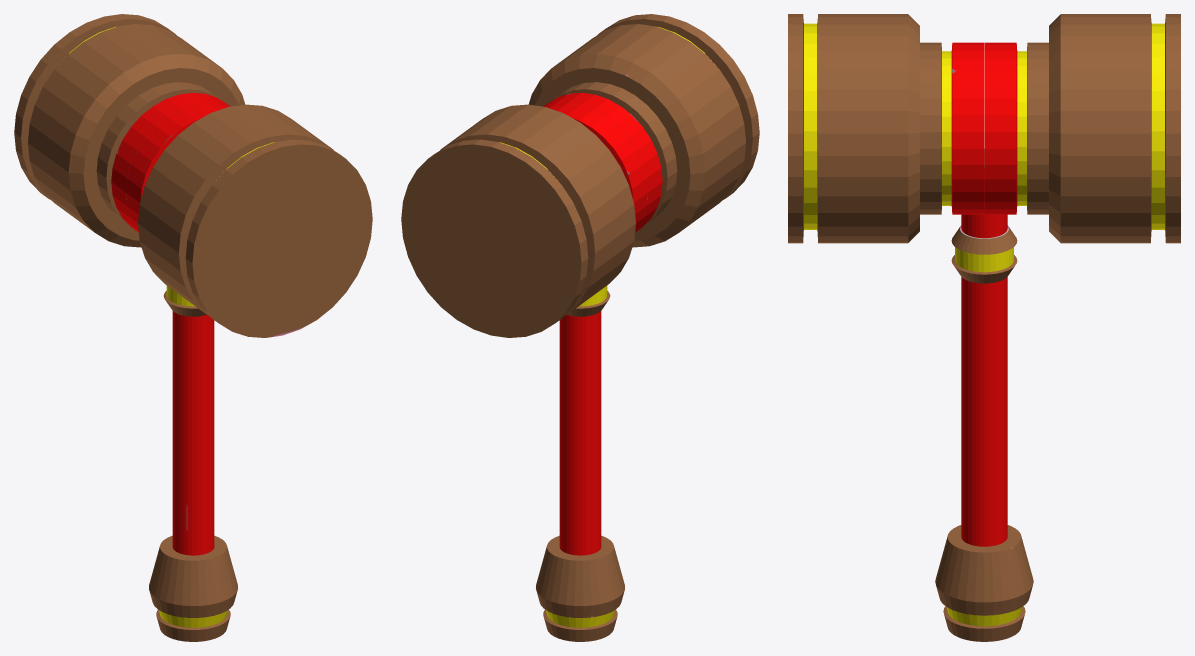
File: hammer.glb
The picture shows the model from 3 angles, left to right: view 1: azimuth 30°, elevation 25°; view 2: azimuth 150°, elevation 25°; view 3: azimuth 270°, elevation 25°; orthographic projection. The views are drawn at different scales.
Parts seen in each view (by area): view 1: Cylinder; view 2: Cylinder; view 3: Cylinder.
Boxes of the visible parts, left/top/right/bottom form: Cylinder: left=14, top=14, right=372, bottom=641; Cylinder: left=401, top=14, right=759, bottom=641; Cylinder: left=788, top=14, right=1180, bottom=641.
Bounding box in the file's own units: 6.98 × 20.41 × 11.94.
1 material, 1 textured.
